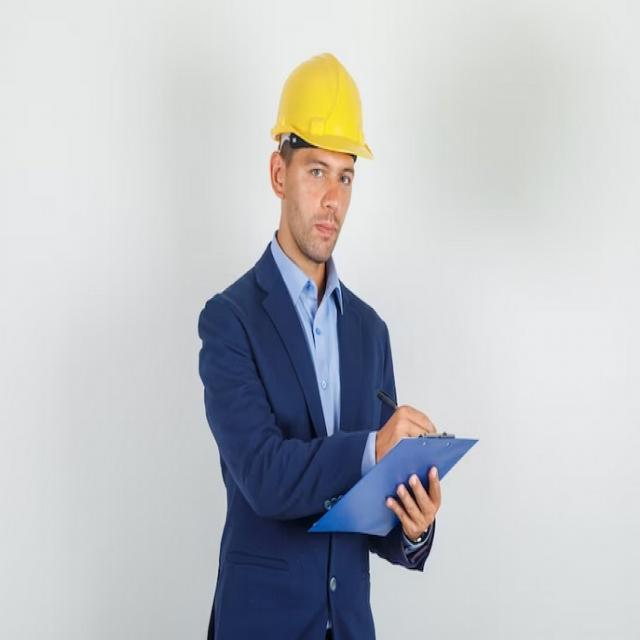helmet: (267, 46, 375, 178)
